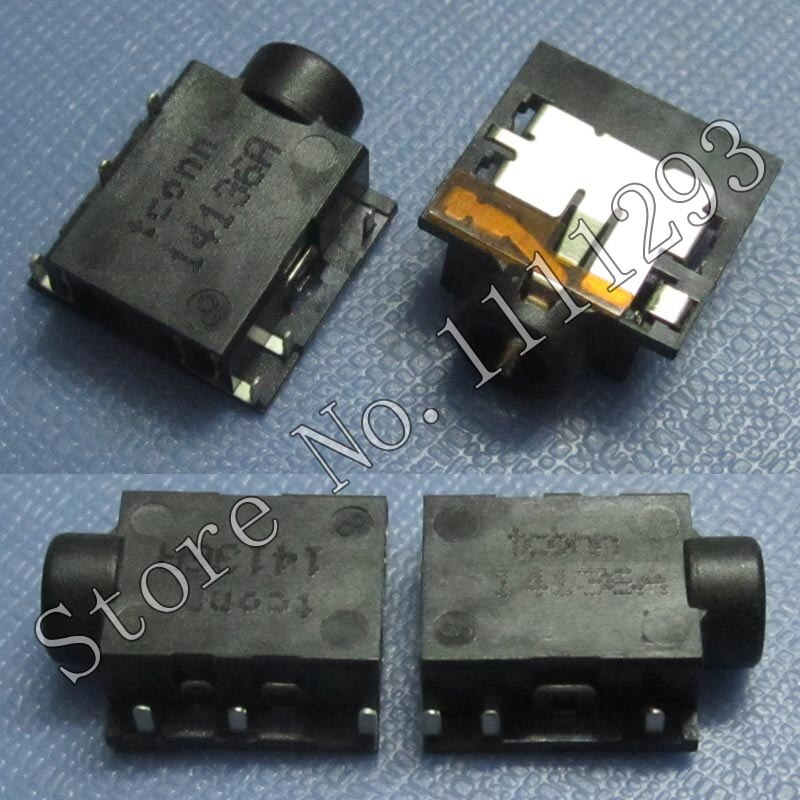aud: (27, 52, 402, 401), (415, 488, 770, 736)
